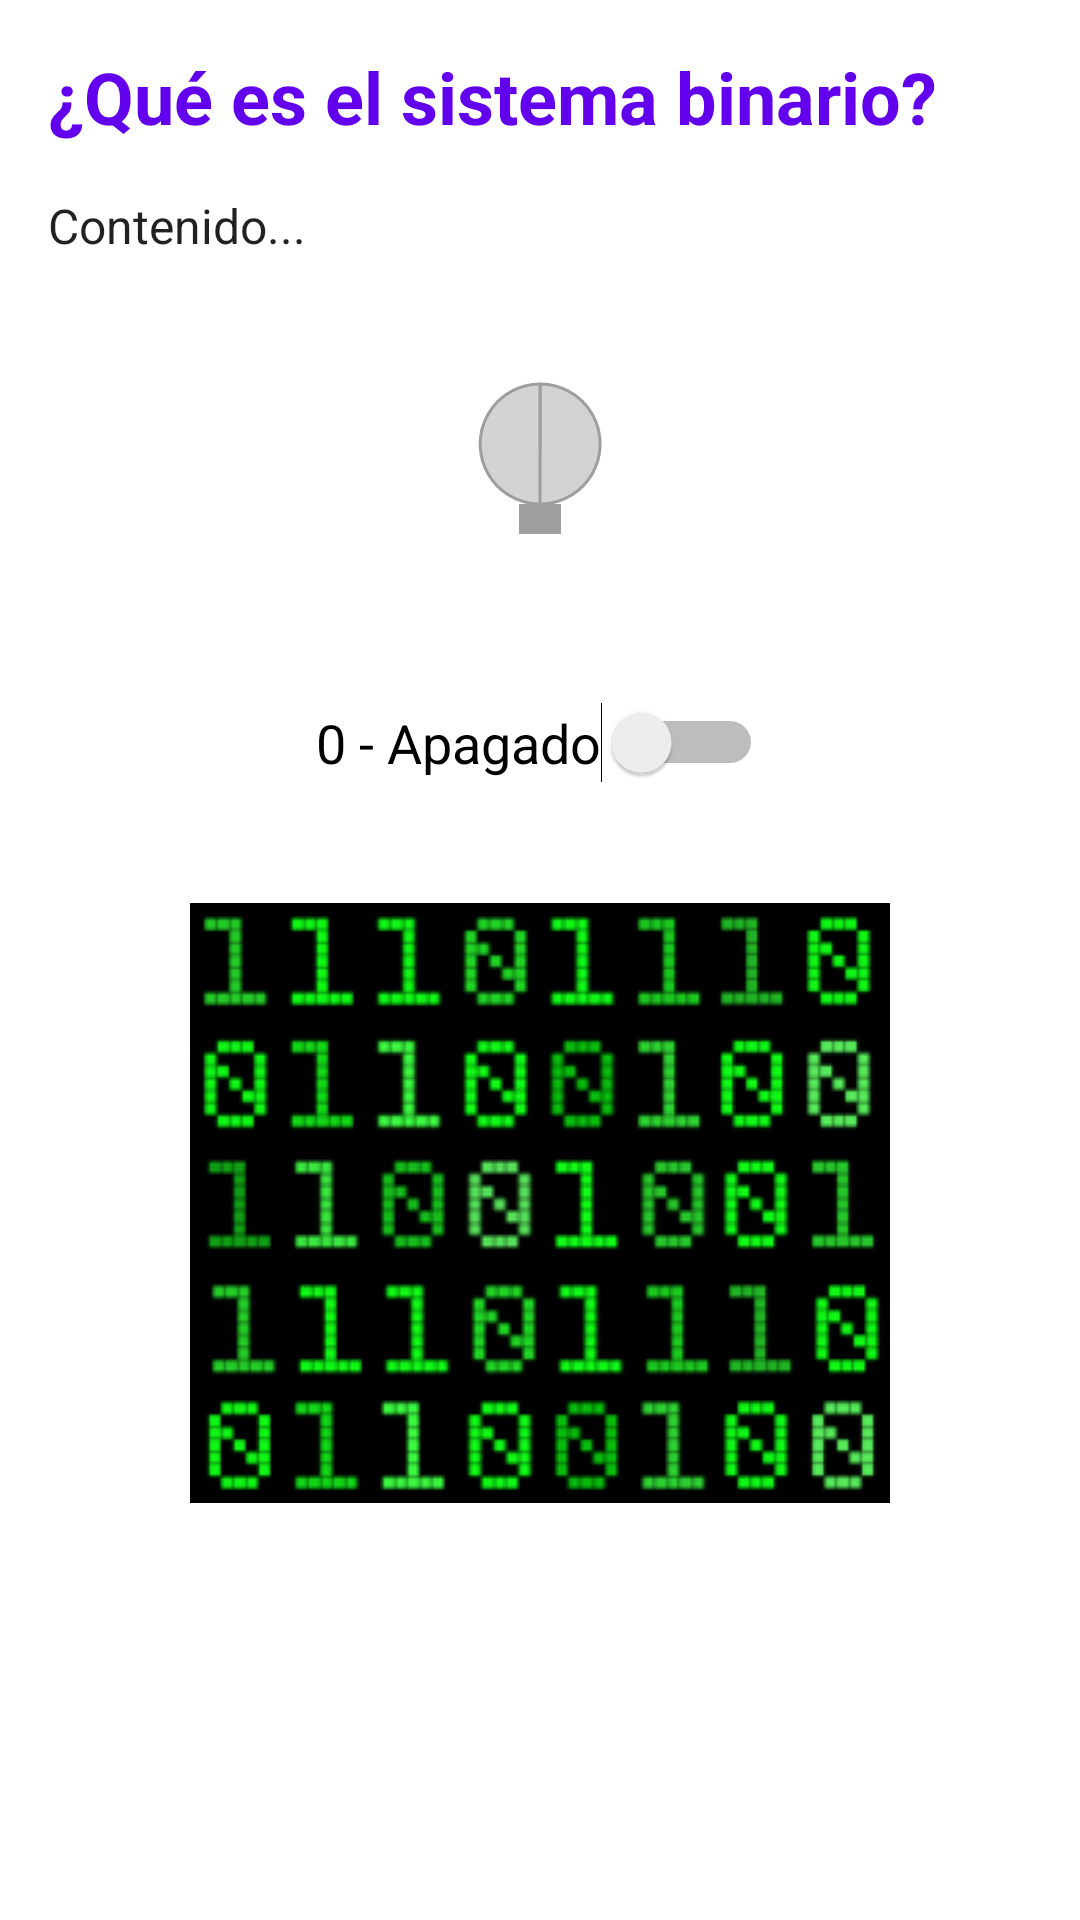

Where to tap for icons on this 1080×1920 app screen, as [x,y]:
bulb off: [540,458]
